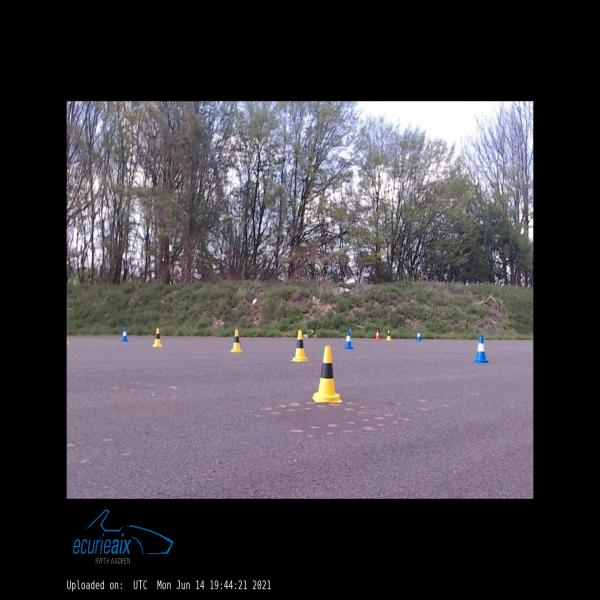blue_cone: (474, 335, 489, 363), (344, 330, 353, 350), (122, 328, 128, 341), (416, 330, 422, 341)
orange_cone: (376, 330, 380, 340)
yellow_cone: (312, 346, 342, 403), (290, 330, 308, 361), (230, 330, 243, 352), (152, 328, 163, 347), (386, 330, 391, 340), (66, 335, 68, 344)
